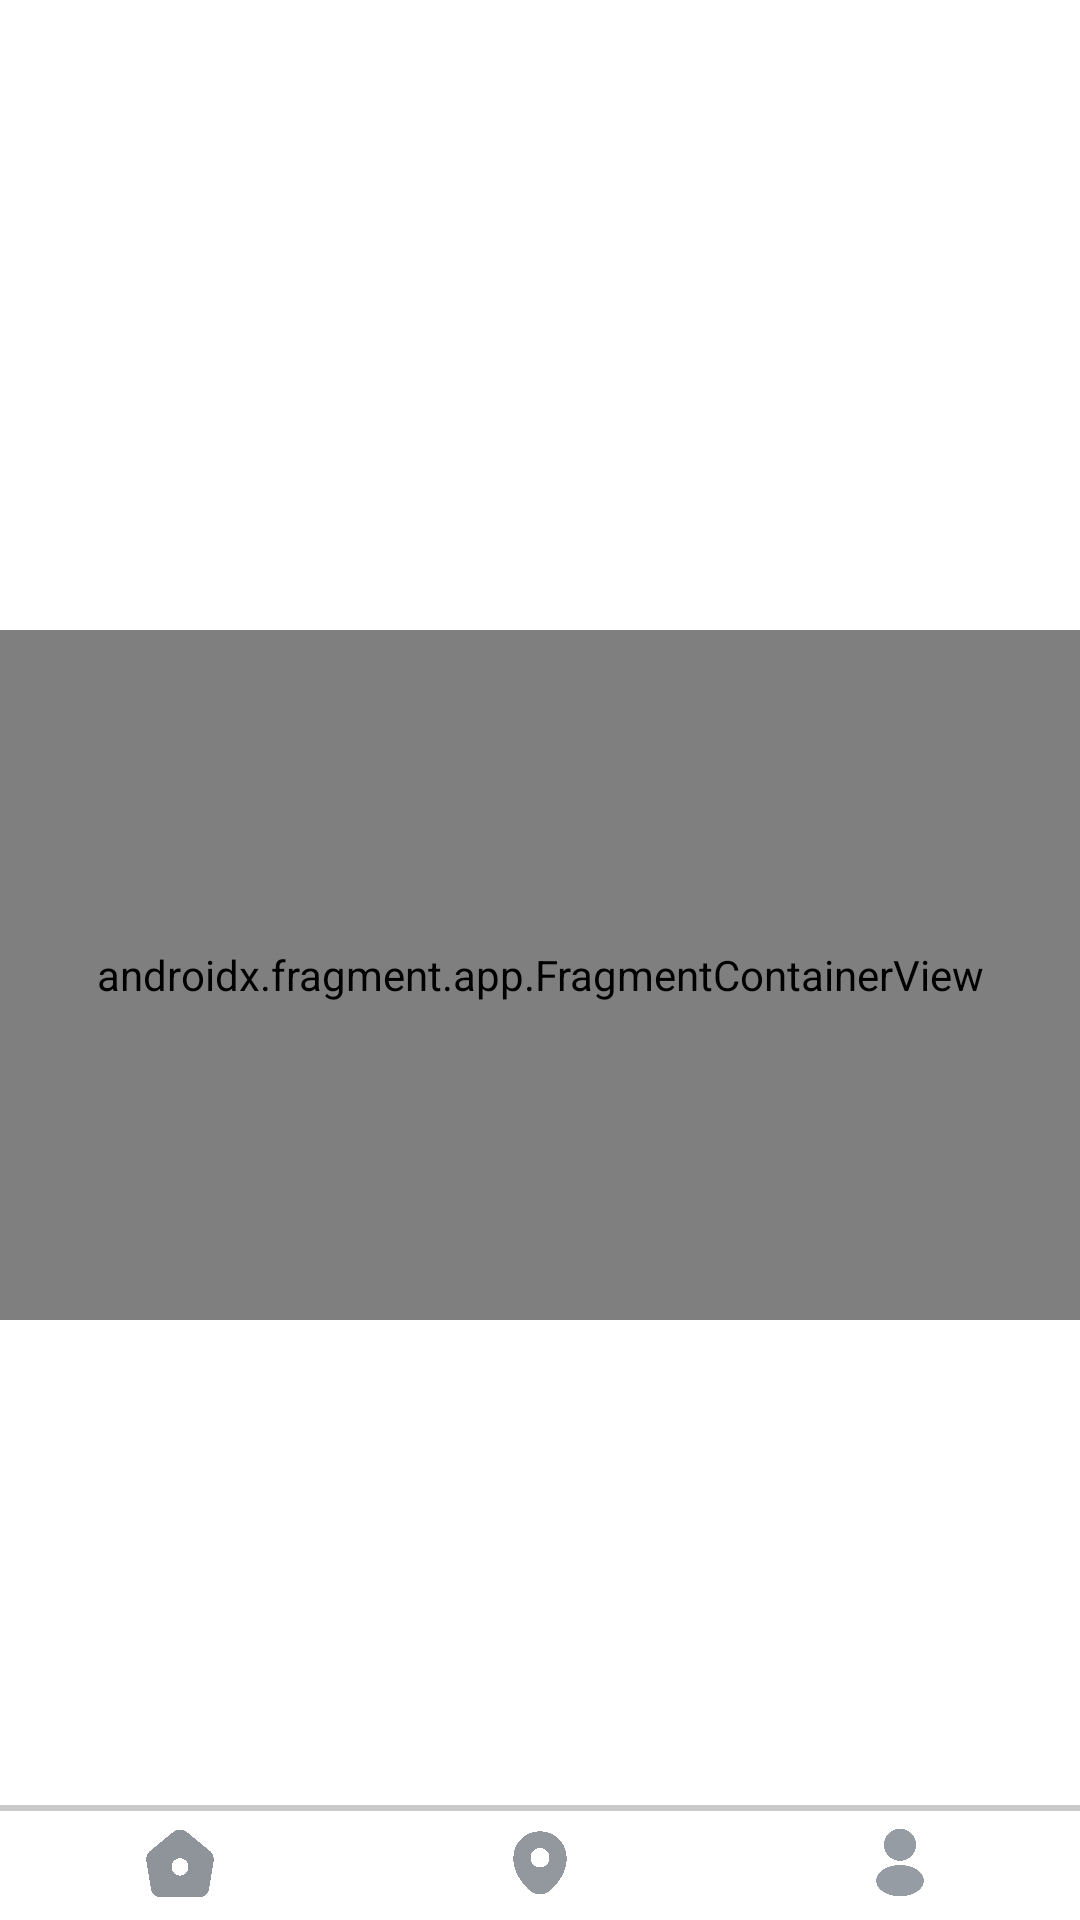

Locate icon controls on the screen. Image size 1080px×1920px, boxes as (x1, y1, x2, y2).
home: (146, 1830, 214, 1897)
location: (513, 1831, 567, 1894)
profile: (876, 1829, 924, 1896)
